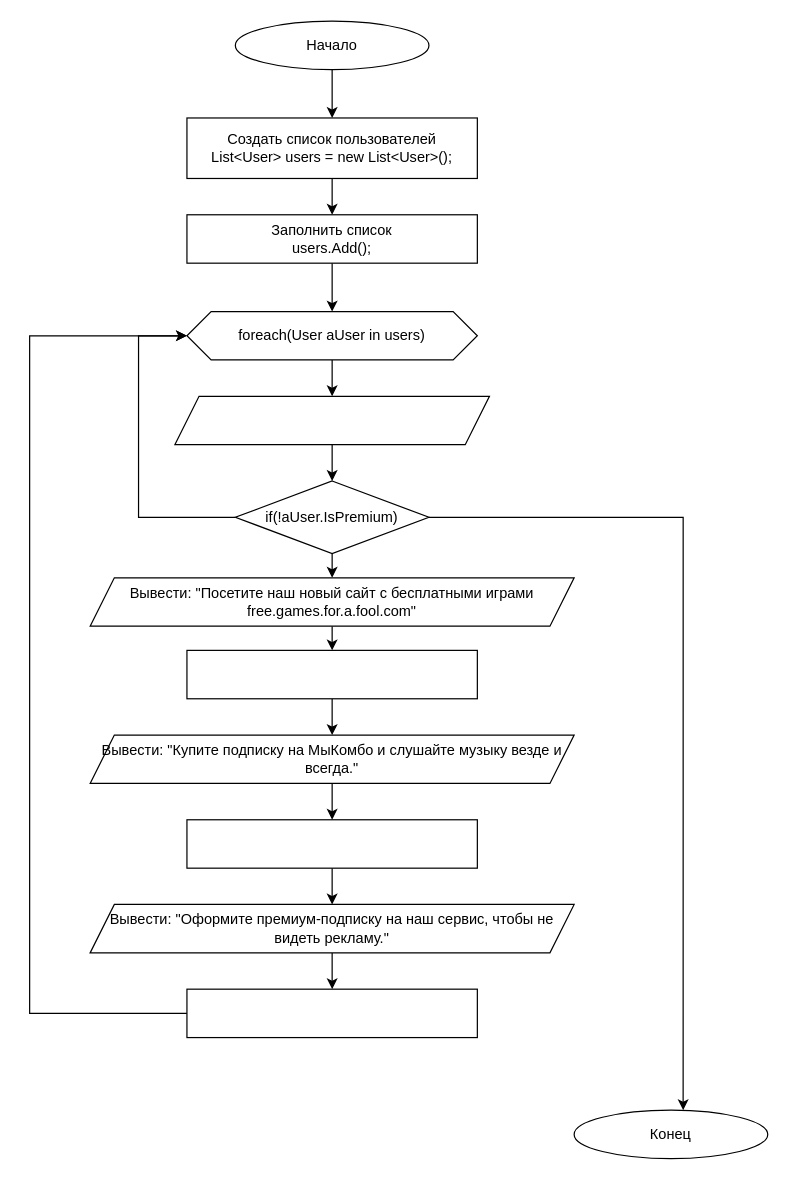
Image size: 789x1180. Some labels were removed from this diagram. Here are the shapes that lost their labels. From the top down, the centre of each, then its label:
[331,420]: Вывести: "Привет, {имя пользователя}!"
[331,674]: Thread.Sleep(1000);
[331,843]: Thread.Sleep(2000);
[331,1013]: Thread.Sleep(3000);
